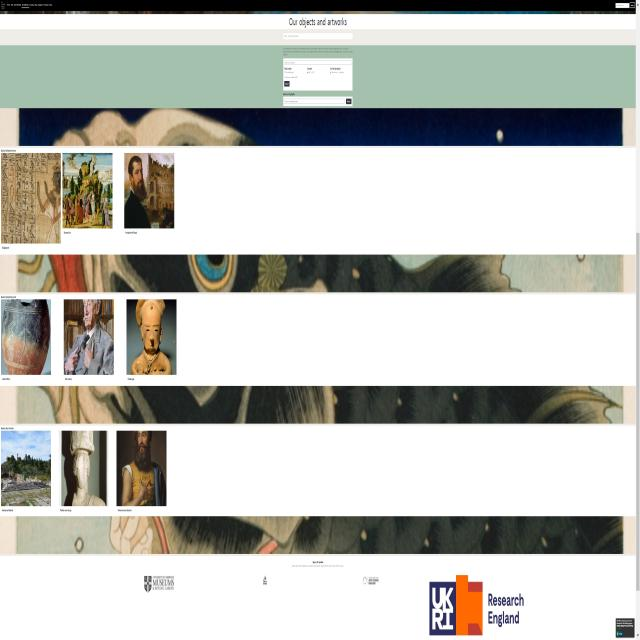search: (284, 96, 352, 106), (282, 31, 354, 40)
tab-bar: (10, 2, 52, 6)
